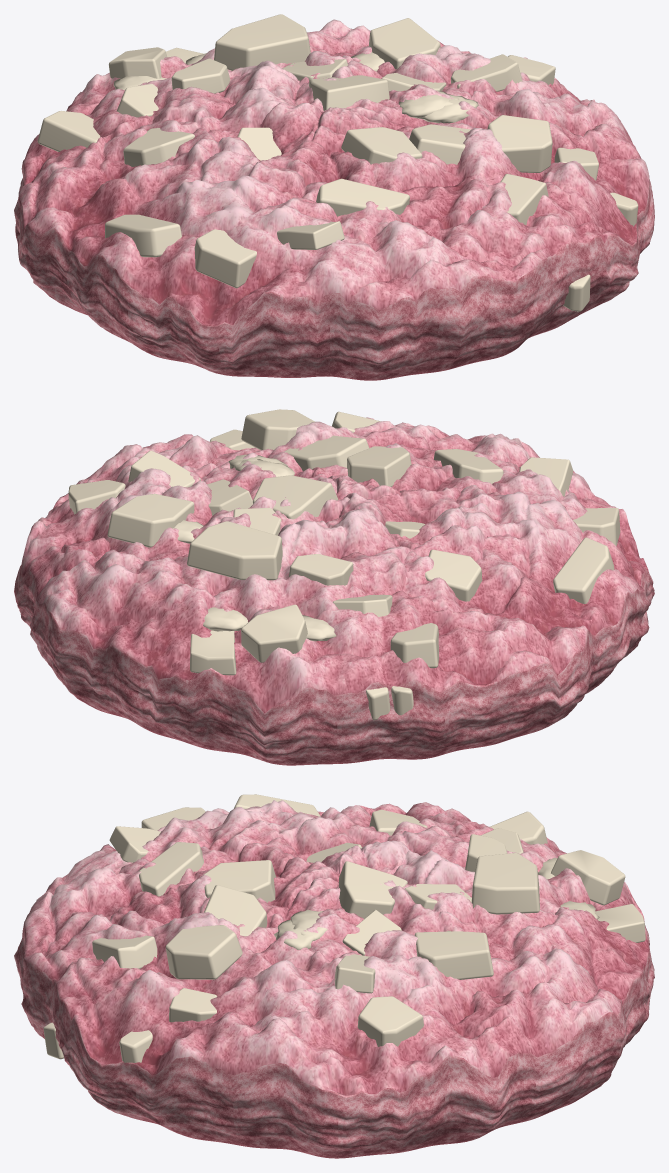
Rendered from tem_pinky.glb.
The picture shows the model from 3 angles, top to bottom: view 1: azimuth 30°, elevation 25°; view 2: azimuth 150°, elevation 25°; view 3: azimuth 270°, elevation 25°; orthographic projection. The views are drawn at different scales.
Parts seen in each view (by area): view 1: Baked porous crumb, Dark chocolate; view 2: Baked porous crumb, Dark chocolate; view 3: Baked porous crumb, Dark chocolate.
Part boxes in pixels (x1,y1,x2,y2): Baked porous crumb: (14, 19, 654, 380); Dark chocolate: (34, 14, 638, 311); Baked porous crumb: (14, 417, 654, 765); Dark chocolate: (68, 409, 620, 720); Baked porous crumb: (14, 800, 654, 1158); Dark chocolate: (43, 794, 645, 1062).
Bounding box in the file's own units: 0.093 × 0.0274 × 0.0903.
Materials: 3 (2 with a texture image).
